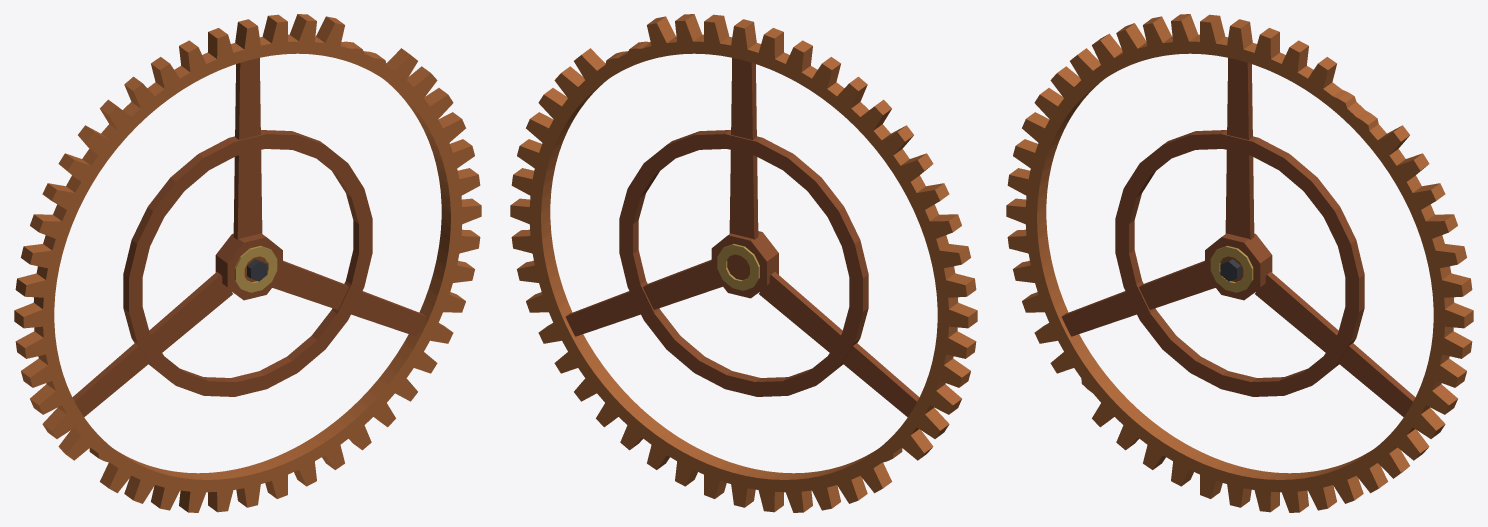
Rendered from gear_skeleton.fbx.
3 renders of one model, left to right at view 1: azimuth 30°, elevation 25°; view 2: azimuth 150°, elevation 25°; view 3: azimuth 330°, elevation 25°, orthographic.
Visible parts, largest first — view 1: Gear_Deco_Skeleton_Rim, Gear_Deco_Skeleton_Spokes, Gear_Deco_Skeleton_Hub; view 2: Gear_Deco_Skeleton_Rim, Gear_Deco_Skeleton_Spokes, Gear_Deco_Skeleton_Hub; view 3: Gear_Deco_Skeleton_Rim, Gear_Deco_Skeleton_Spokes, Gear_Deco_Skeleton_Hub.
Part boxes in pixels (x1=…): Gear_Deco_Skeleton_Rim: x1=14, y1=14, x2=481, y2=512; Gear_Deco_Skeleton_Spokes: x1=72, y1=58, x2=425, y2=417; Gear_Deco_Skeleton_Hub: x1=215, y1=233, x2=282, y2=300; Gear_Deco_Skeleton_Rim: x1=510, y1=14, x2=977, y2=512; Gear_Deco_Skeleton_Spokes: x1=566, y1=58, x2=919, y2=417; Gear_Deco_Skeleton_Hub: x1=711, y1=231, x2=778, y2=298; Gear_Deco_Skeleton_Rim: x1=1006, y1=14, x2=1473, y2=512; Gear_Deco_Skeleton_Spokes: x1=1062, y1=58, x2=1415, y2=417; Gear_Deco_Skeleton_Hub: x1=1205, y1=233, x2=1272, y2=300.
Size of the model in its own units: 200 by 200 by 13.
